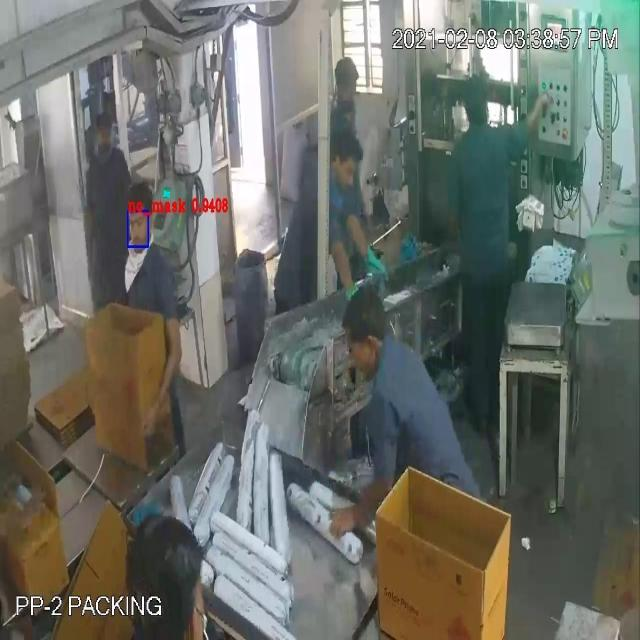No_Gloves: (57, 90, 365, 510)
